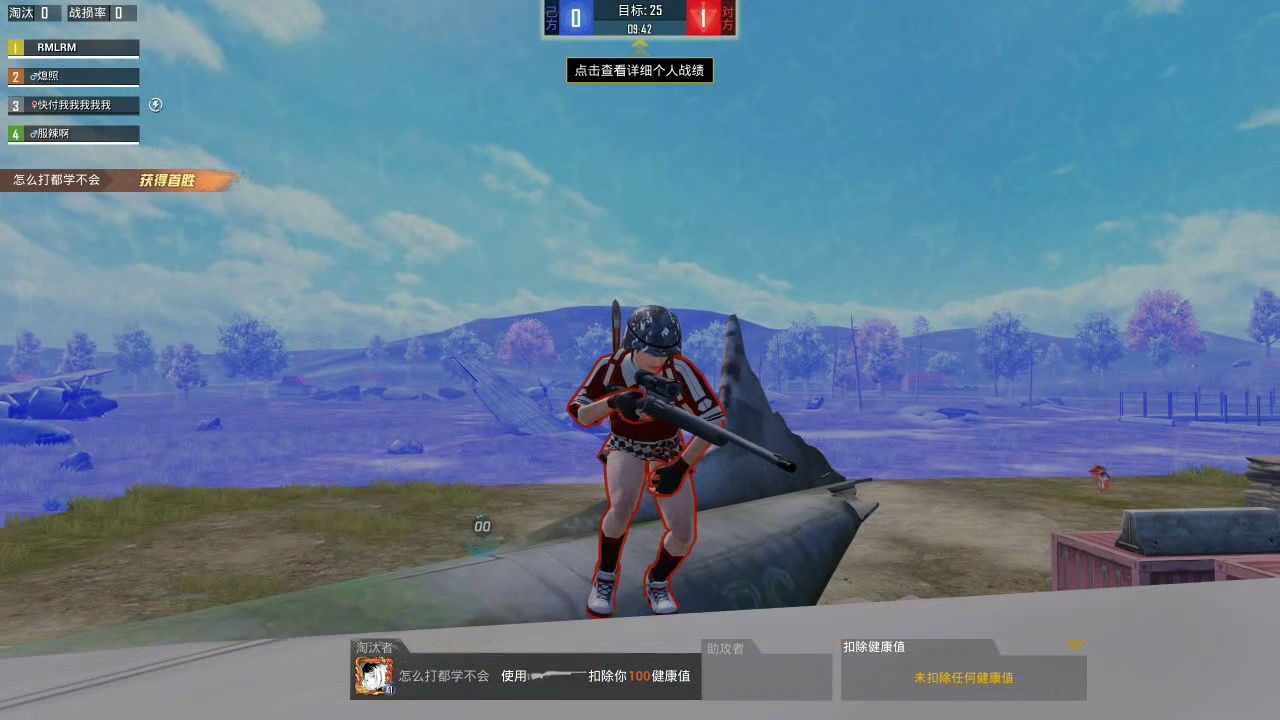enemy: (579, 304, 706, 612)
